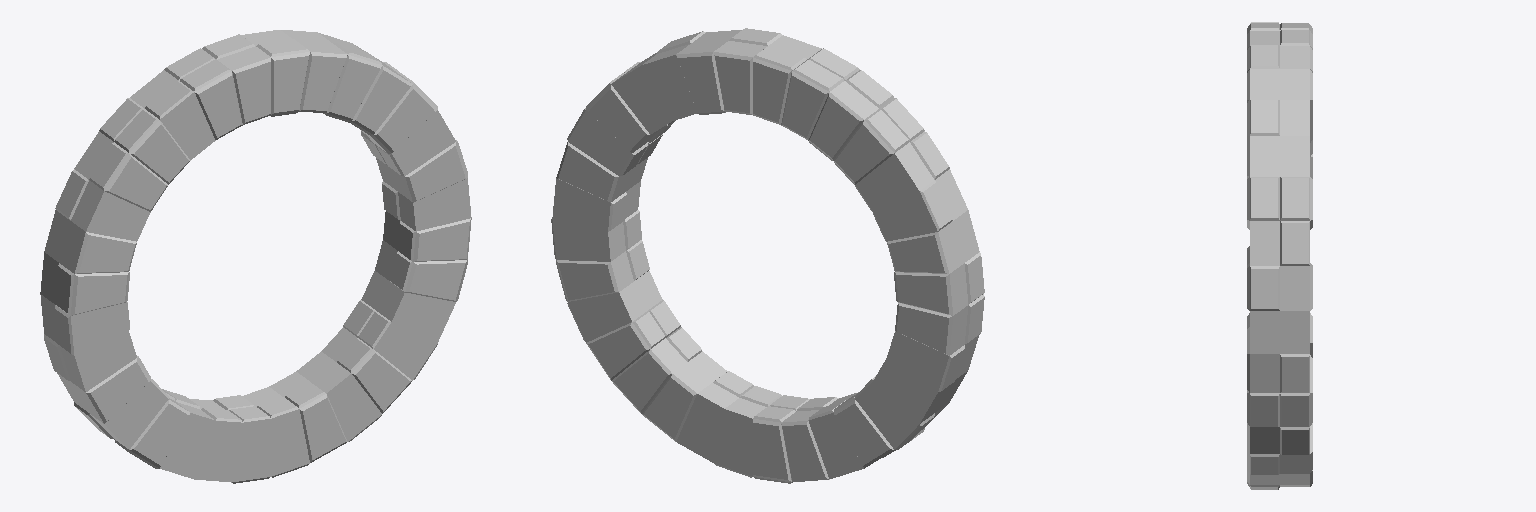
File: ring_ruin.obj
The picture shows the model from 3 angles: view 1: azimuth 30°, elevation 25°; view 2: azimuth 150°, elevation 25°; view 3: azimuth 270°, elevation 25°; orthographic projection.
Parts seen in each view (by area): view 1: Cylinder.001_Cylinder.002; view 2: Cylinder.001_Cylinder.002; view 3: Cylinder.001_Cylinder.002.
Part boxes in pixels (bbox=[...]): Cylinder.001_Cylinder.002: bbox=[40, 30, 471, 483]; Cylinder.001_Cylinder.002: bbox=[551, 28, 984, 483]; Cylinder.001_Cylinder.002: bbox=[1247, 22, 1312, 489].
Size of the model in its own units: 15.17 by 15.17 by 2.12.